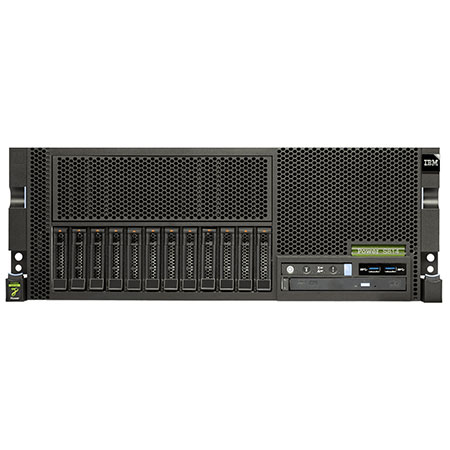ibm-server: (4, 139, 445, 309)
